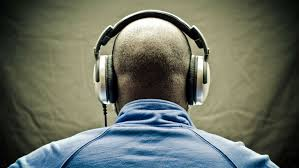Humano: (51, 8, 240, 168)
